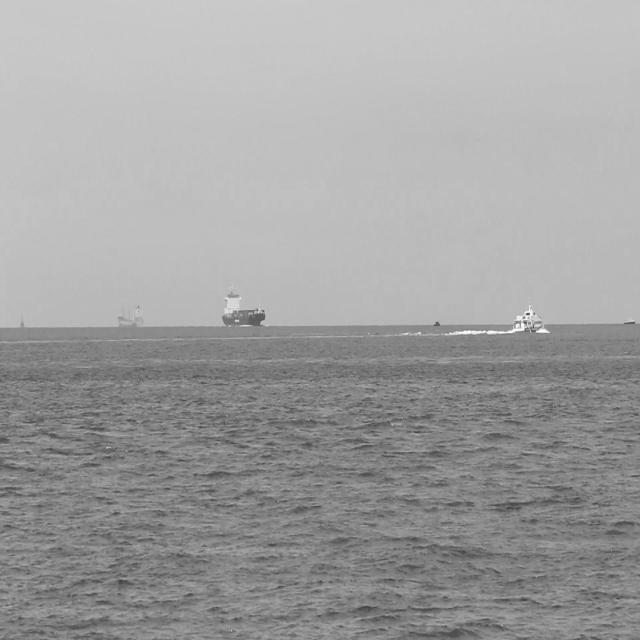ship: (220, 280, 268, 332), (511, 297, 546, 334), (116, 297, 147, 330), (620, 313, 638, 327)
